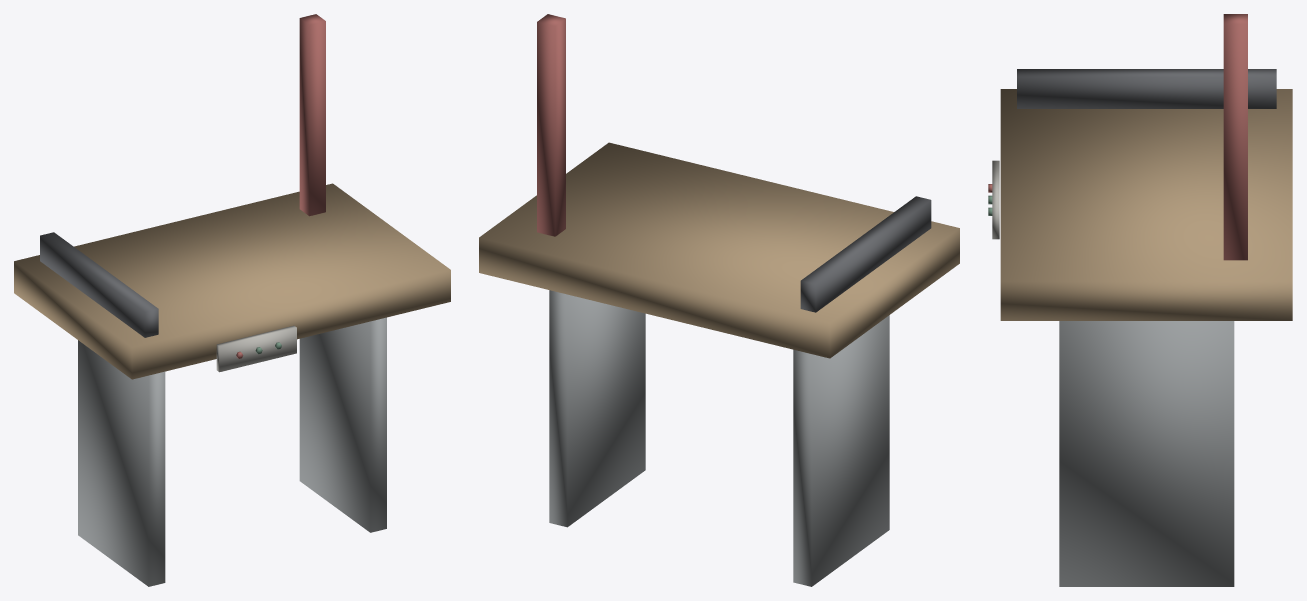
Rendered from paper_cutter__compact.glb.
The picture shows the model from 3 angles, left to right: view 1: azimuth 30°, elevation 25°; view 2: azimuth 150°, elevation 25°; view 3: azimuth 270°, elevation 25°; orthographic projection. The views are drawn at different scales.
Visible parts, largest first — view 1: world; view 2: world; view 3: world.
Boxes of the visible parts, left/top/right/bottom form: world: left=14, top=14, right=450, bottom=586; world: left=479, top=14, right=959, bottom=586; world: left=988, top=14, right=1292, bottom=586.
Size of the model in its own units: 0.966 by 1.33 by 0.6459.
